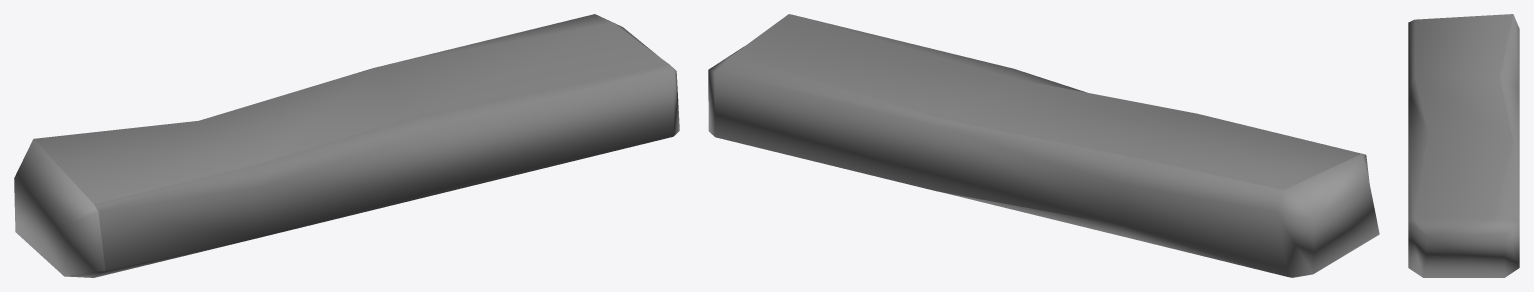
The model's file is Slab_01.fbx.
3 views of the same model, side by side, from view 1: azimuth 30°, elevation 25°; view 2: azimuth 150°, elevation 25°; view 3: azimuth 270°, elevation 25° (orthographic). The views are drawn at different scales.
Visible parts, largest first — view 1: Cube.002; view 2: Cube.002; view 3: Cube.002.
Part boxes in pixels (x1=…): Cube.002: x1=14, y1=14, x2=679, y2=277; Cube.002: x1=708, y1=14, x2=1379, y2=277; Cube.002: x1=1408, y1=14, x2=1519, y2=277.
Size of the model in its own units: 397 by 54.04 by 87.66.
